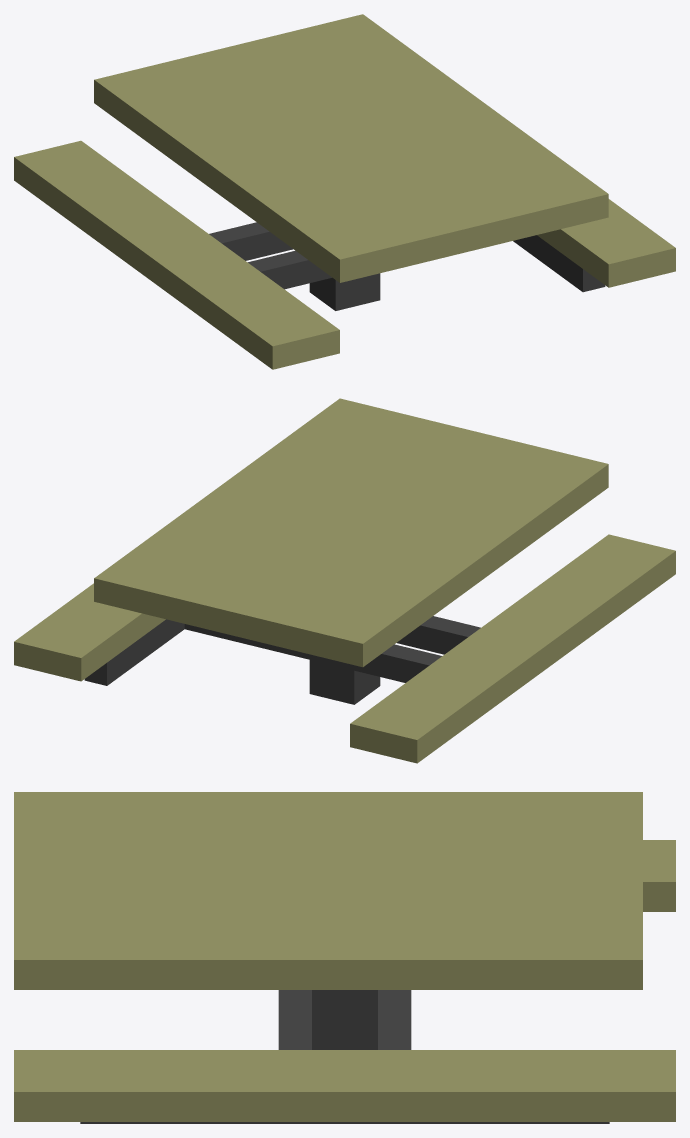
The model's file is obj_table3b.fbx.
The picture shows the model from 3 angles, top to bottom: view 1: azimuth 30°, elevation 25°; view 2: azimuth 150°, elevation 25°; view 3: azimuth 270°, elevation 25°; orthographic projection. The views are drawn at different scales.
Visible parts, largest first — view 1: obj_table3b; view 2: obj_table3b; view 3: obj_table3b.
Part boxes in pixels (box(x1,y1,x2,y2)): obj_table3b: box(14, 14, 675, 369); obj_table3b: box(14, 398, 675, 763); obj_table3b: box(14, 792, 675, 1123).
Size of the model in its own units: 1.8 by 2 by 0.7.
Materials: 1 (1 with a texture image).
